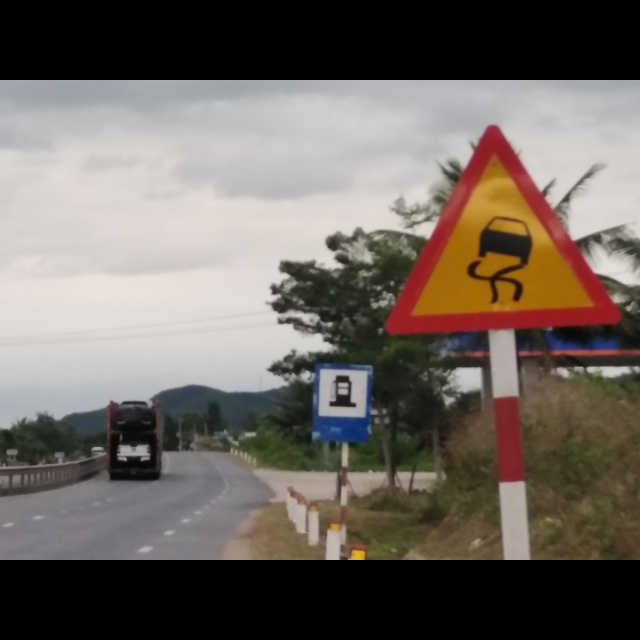Đường trơn trượt: (378, 124, 626, 339)
